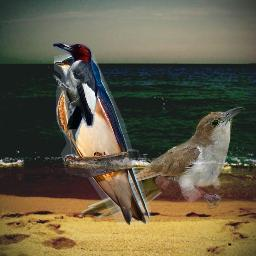Cuckoo: (79, 106, 245, 218)
Swallow: (54, 54, 151, 225)
Woodpecker: (53, 42, 98, 156)
